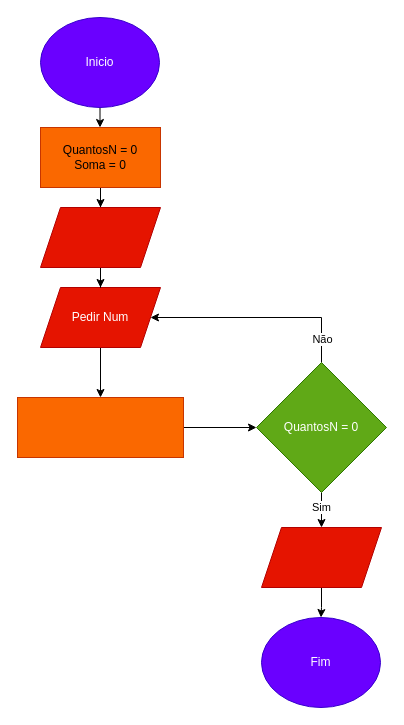
Some shapes in this 404 by 725 pixel diagram are drawn without their labels. The shapes that lost their labels are listed below. From the top down, each one's centre as x and y in pixels, then its label:
At (x=100, y=237): "Pedir QuantosN".
At (x=100, y=427): "Soma = Soma + Num QuantosN = QuantosN - 1".
At (x=321, y=557): "Escrever Soma".
